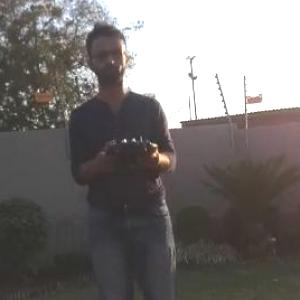follow: (65, 16, 188, 299)
